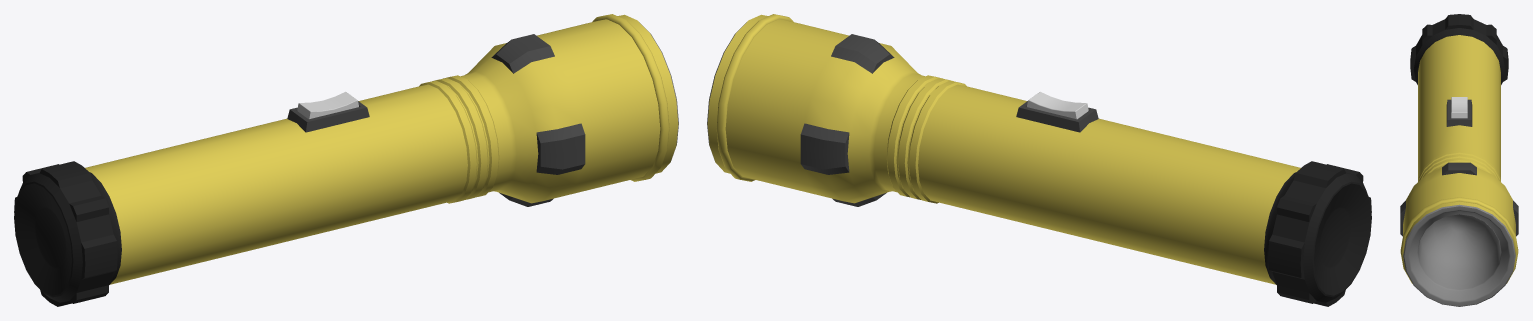
The model's file is flashlight_final_textured.fbx.
The picture shows the model from 3 angles, left to right: view 1: azimuth 30°, elevation 25°; view 2: azimuth 150°, elevation 25°; view 3: azimuth 270°, elevation 25°; orthographic projection. The views are drawn at different scales.
Visible parts, largest first — view 1: flashlightfinal:polySurface1, flashlightfinal:pCube1; view 2: flashlightfinal:polySurface1, flashlightfinal:pCube1; view 3: flashlightfinal:polySurface1, flashlightfinal:pCube1.
Boxes of the visible parts, x1,y1,x2,y2 form: flashlightfinal:polySurface1: (14,14,678,306); flashlightfinal:pCube1: (297,91,358,119); flashlightfinal:polySurface1: (707,14,1371,306); flashlightfinal:pCube1: (1027,91,1088,119); flashlightfinal:polySurface1: (1400,14,1518,306); flashlightfinal:pCube1: (1451,97,1467,118).
Size of the model in its own units: 16.16 by 4.04 by 4.04.
